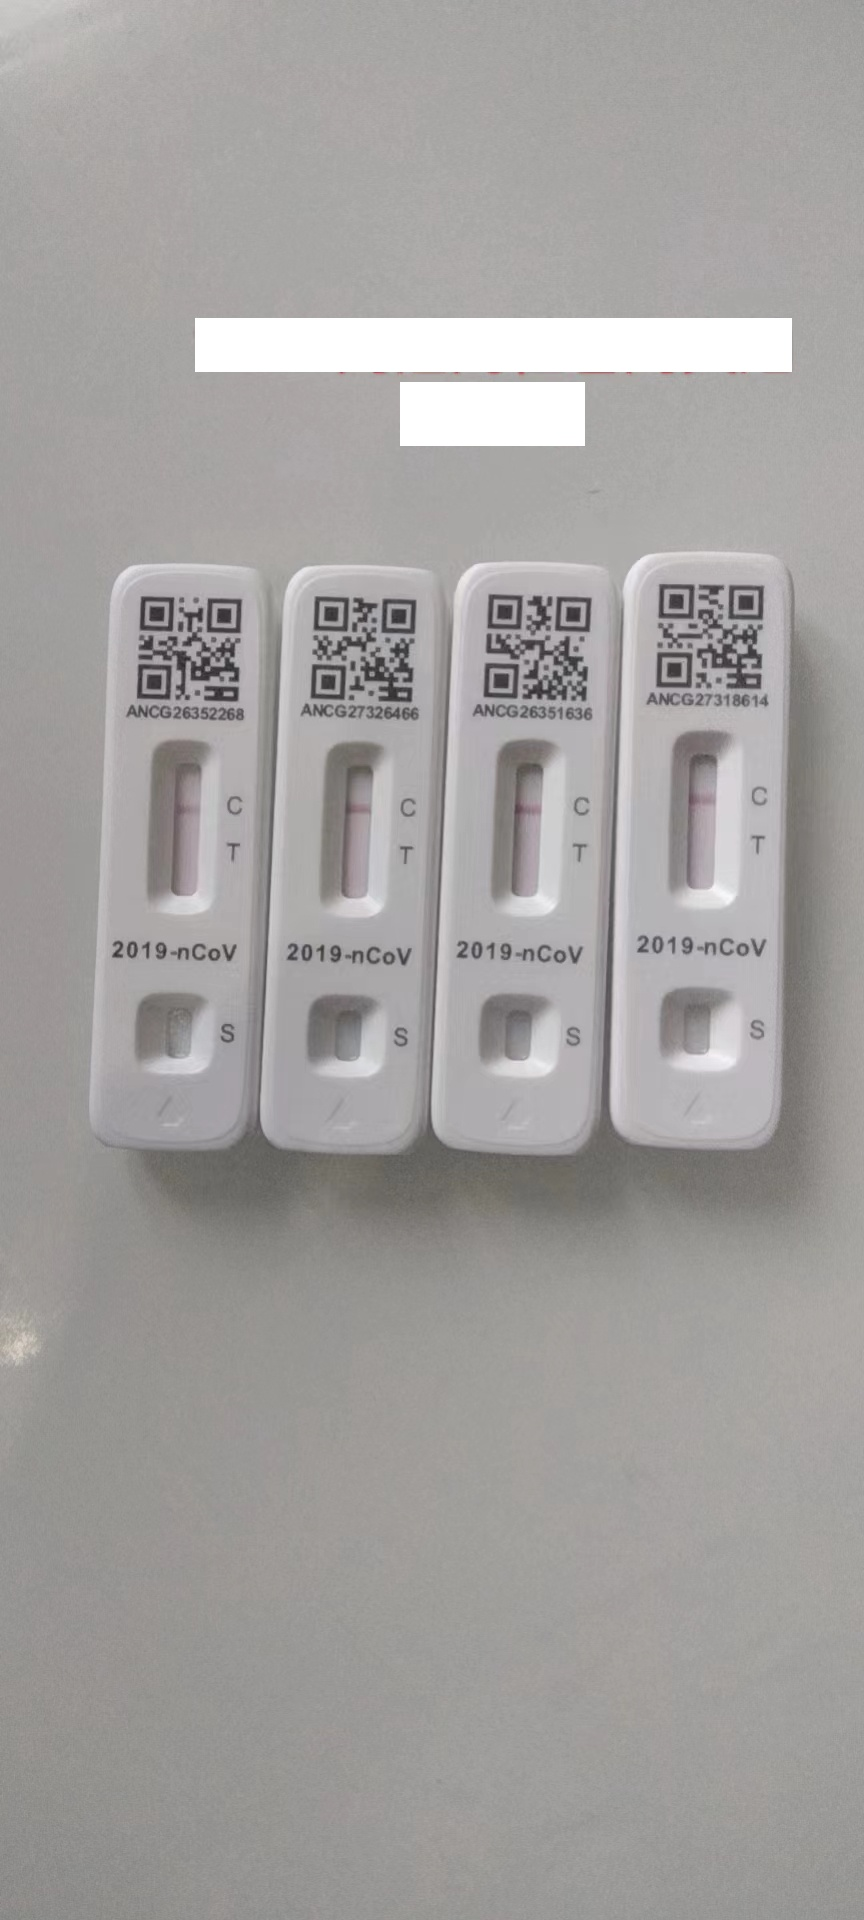negative: (487, 740, 562, 916), (144, 738, 215, 913), (667, 727, 736, 909), (318, 740, 385, 915)
